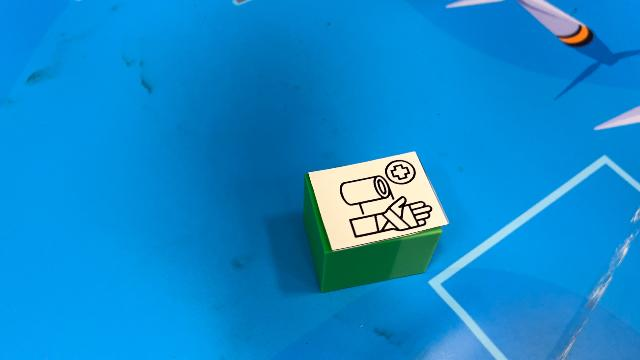bandage: (302, 148, 450, 294)
